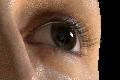eye: (52, 24, 77, 51)
